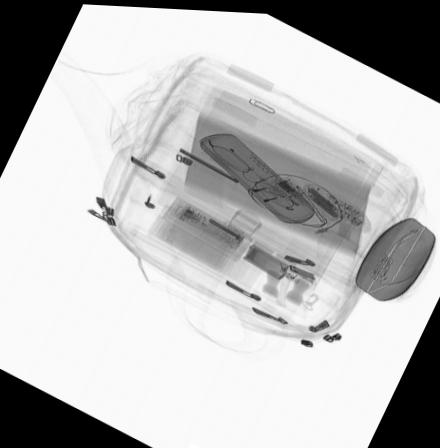Lighter: (278, 179, 327, 200)
